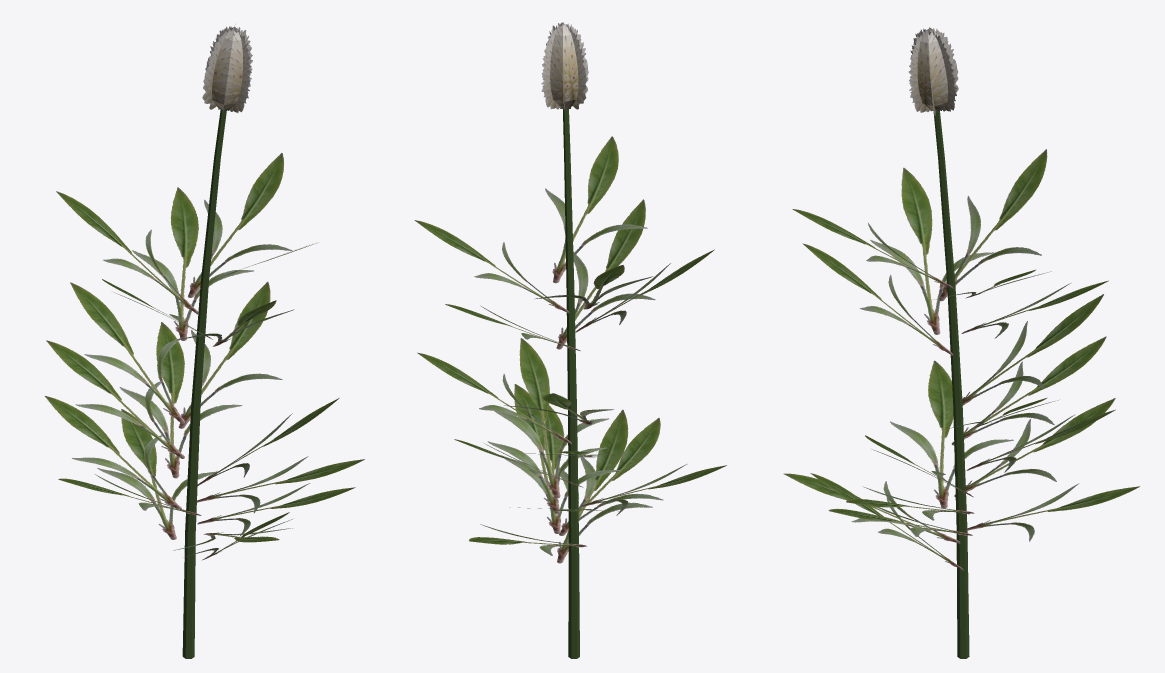
Rendered from category_mesh_flower_6_v1.glb.
3 renders of one model, left to right at view 1: azimuth 30°, elevation 25°; view 2: azimuth 150°, elevation 25°; view 3: azimuth 270°, elevation 25°, orthographic. The views are drawn at different scales.
Visible parts, largest first — view 1: category_mesh_flower_6_v1; view 2: category_mesh_flower_6_v1; view 3: category_mesh_flower_6_v1.
Boxes of the visible parts, x1,y1,x2,y2 form: category_mesh_flower_6_v1: (44,24,364,658); category_mesh_flower_6_v1: (414,22,726,658); category_mesh_flower_6_v1: (783,27,1139,658).
Bounding box in the file's own units: 0.1898 × 0.3748 × 0.1962.
1 material, 1 textured.
